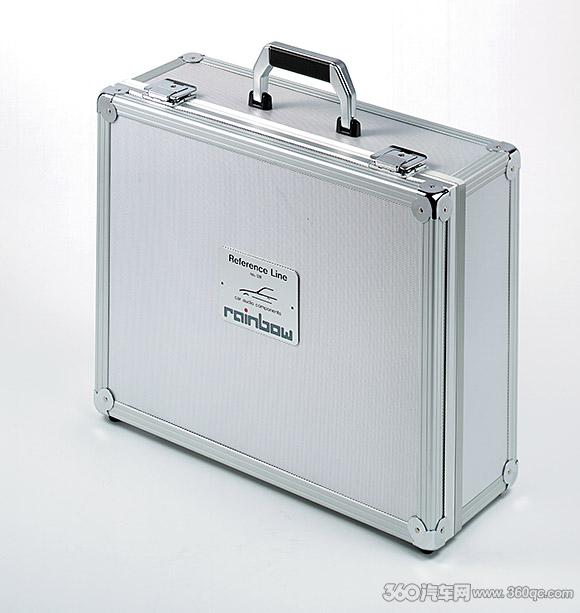shoutibox: (90, 41, 521, 554)
